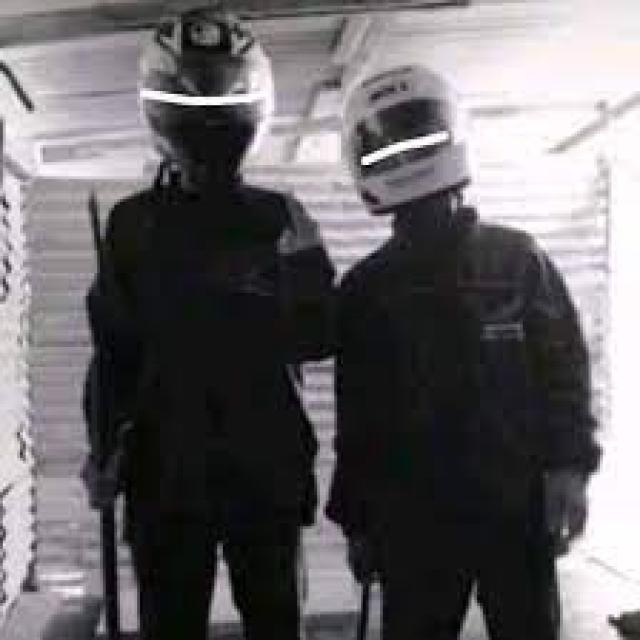helmet: (316, 39, 484, 230), (130, 3, 272, 188)
